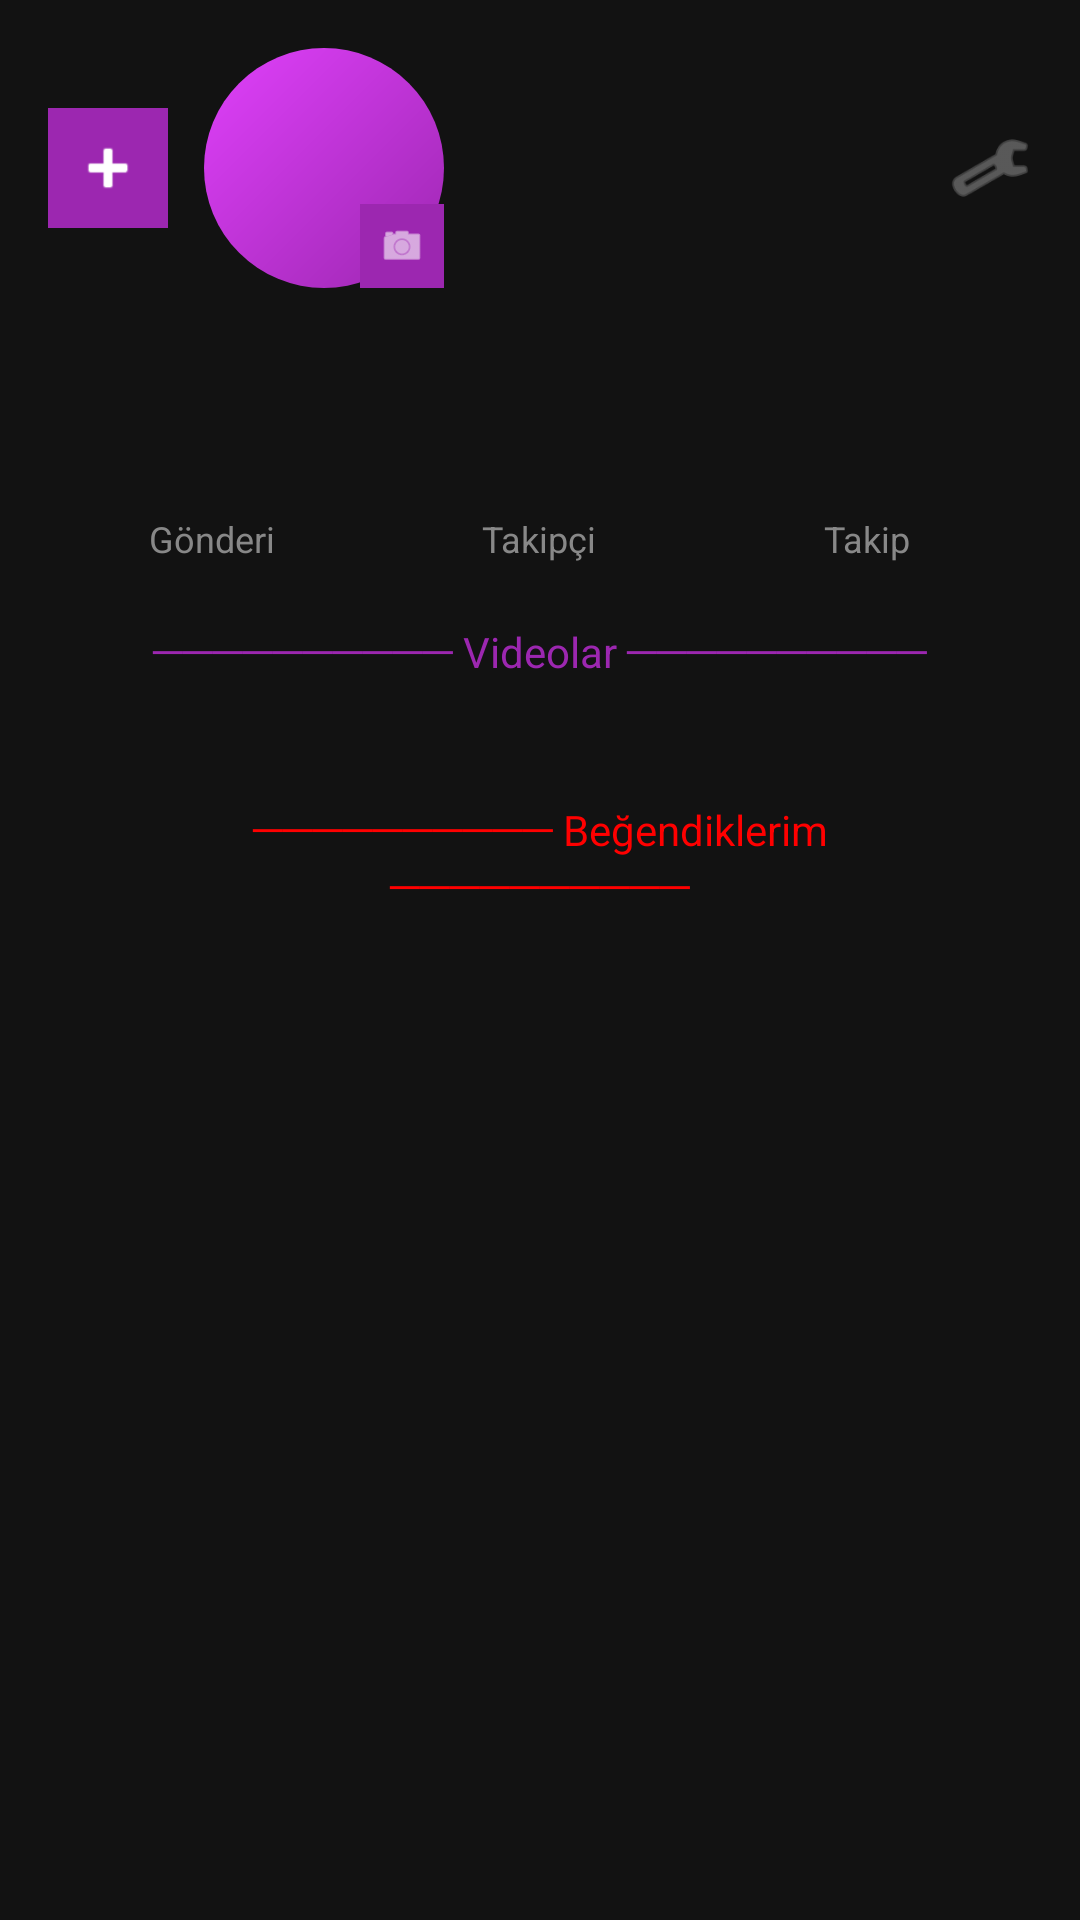

Icon click points for this 1080*1920 phone screenshot, format (x,y):
add: (108,168)
camera: (402,246)
preferences: (990,168)
